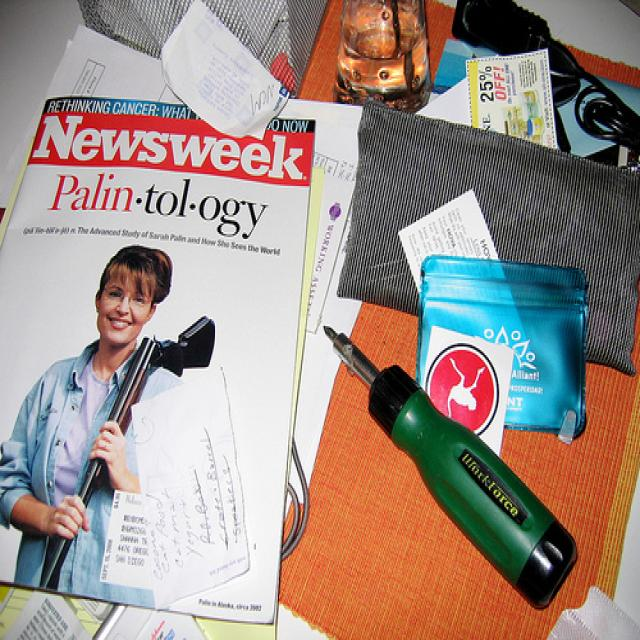screw_driver: (324, 326, 580, 613)
